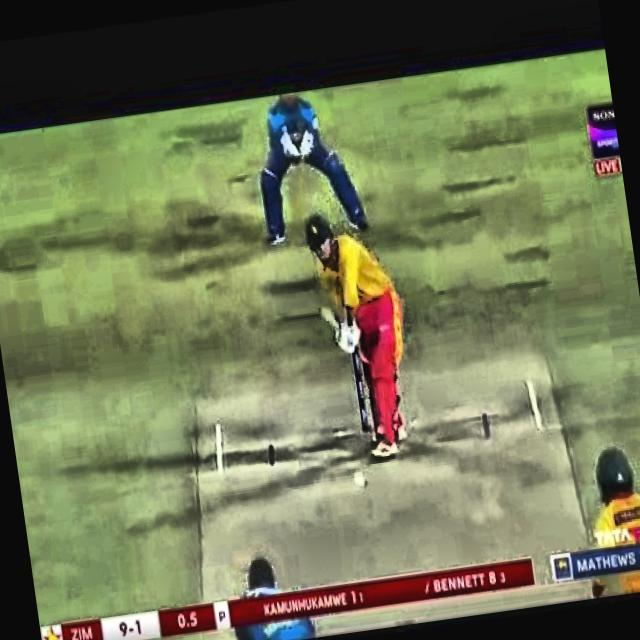Left-stump: (351, 354, 370, 432)
